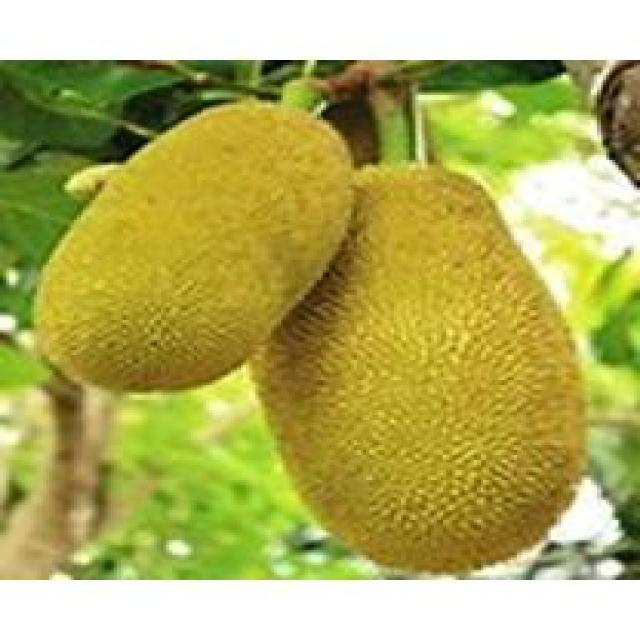Fruit: (212, 147, 612, 575), (6, 80, 388, 412)
